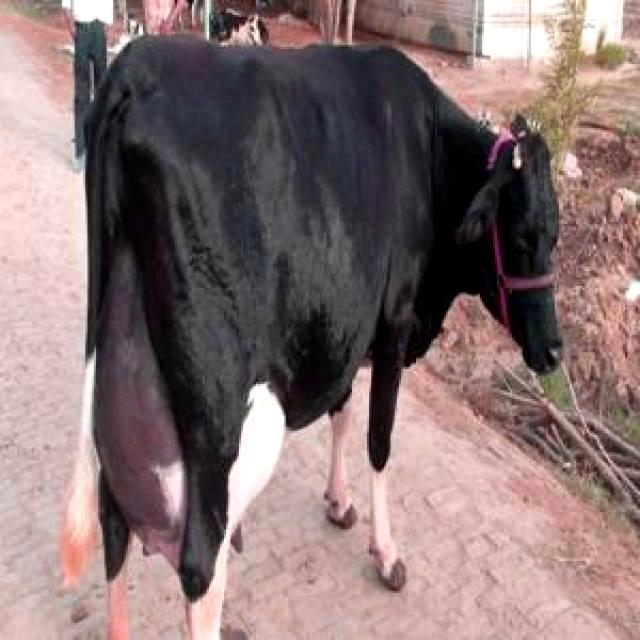COW: (64, 38, 560, 639)
